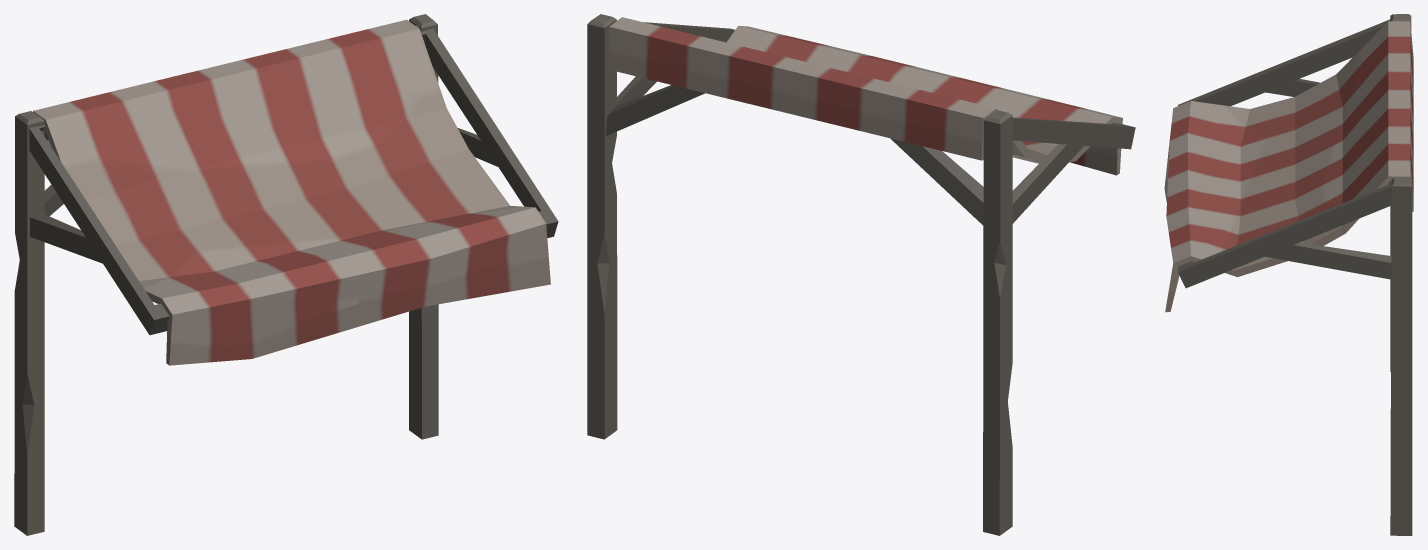
File: SM_Bld_Village_ClothCover_Slope_02.fbx
The picture shows the model from 3 angles, left to right: view 1: azimuth 30°, elevation 25°; view 2: azimuth 150°, elevation 25°; view 3: azimuth 270°, elevation 25°; orthographic projection. The views are drawn at different scales.
Visible parts, largest first — view 1: SM_Bld_Village_ClothCover_Slope_02; view 2: SM_Bld_Village_ClothCover_Slope_02; view 3: SM_Bld_Village_ClothCover_Slope_02.
Boxes of the visible parts, <box> form: SM_Bld_Village_ClothCover_Slope_02: <box>14,14,558,535</box>; SM_Bld_Village_ClothCover_Slope_02: <box>587,14,1135,535</box>; SM_Bld_Village_ClothCover_Slope_02: <box>1164,14,1413,535</box>.
Size of the model in its own units: 363 by 349 by 223.
